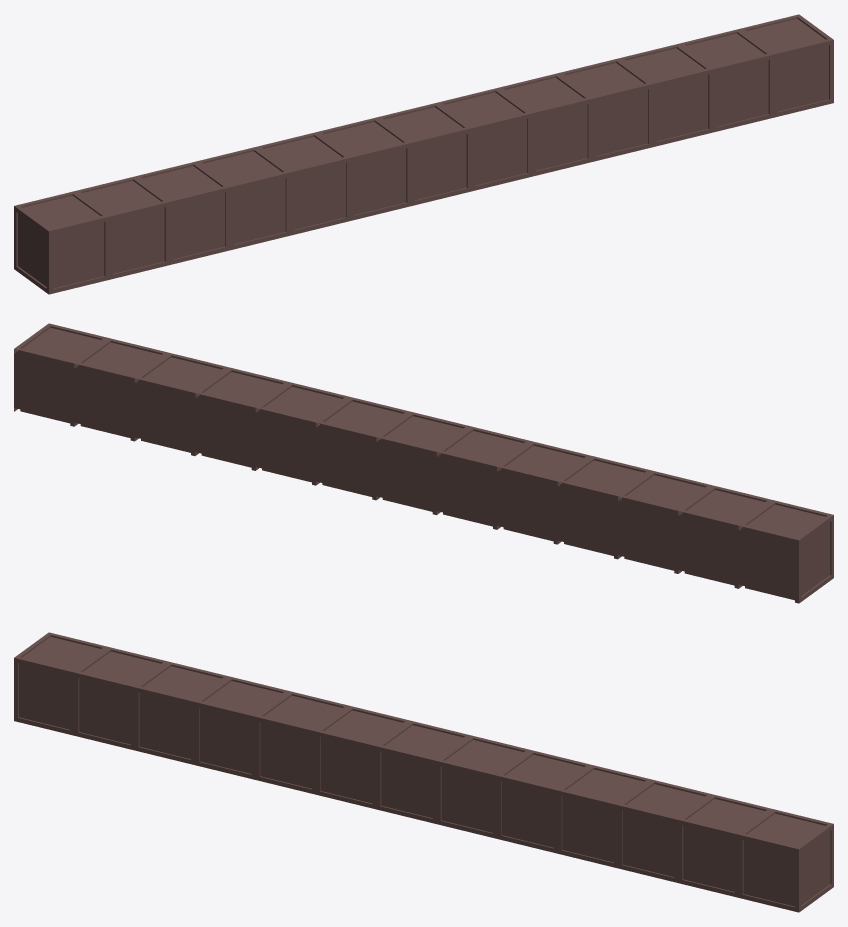
File: Grates_South.fbx
3 views of the same model, one above another, from view 1: azimuth 30°, elevation 25°; view 2: azimuth 150°, elevation 25°; view 3: azimuth 330°, elevation 25° (orthographic).
Visible parts, largest first — view 1: Platform.025; view 2: Platform.025; view 3: Platform.025.
Boxes of the visible parts, x1,y1,x2,y2 form: Platform.025: [14, 14, 833, 294]; Platform.025: [14, 323, 833, 603]; Platform.025: [14, 632, 833, 912].
Size of the model in its own units: 3900 by 300 by 300.
